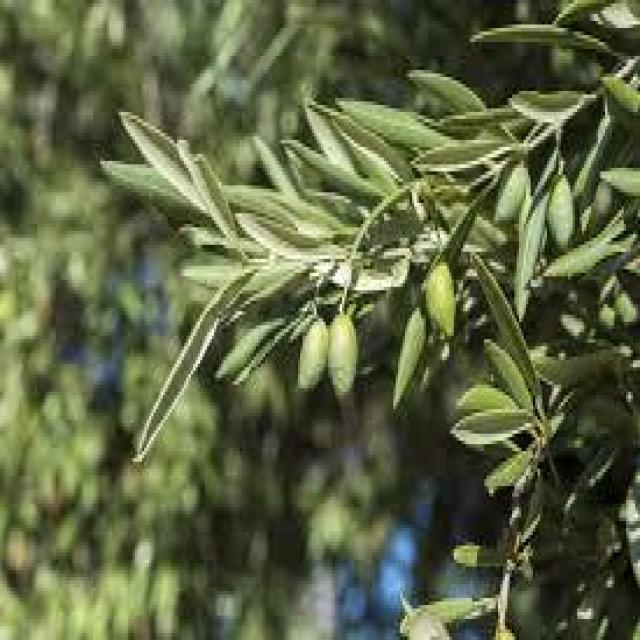Healthy: (330, 313, 358, 397), (426, 262, 455, 336), (299, 321, 327, 391), (495, 163, 529, 219), (549, 178, 574, 247)
